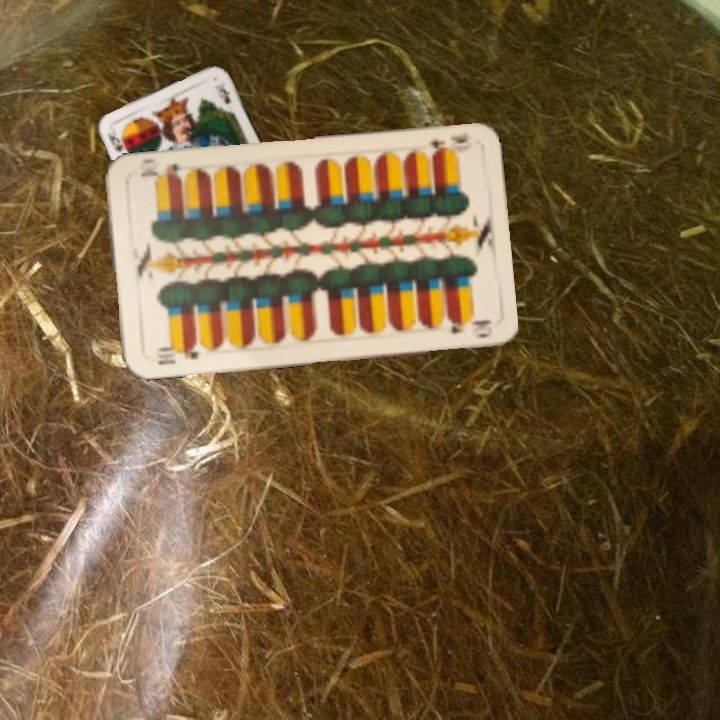E10: (426, 129, 473, 159), (154, 340, 202, 368)
SK: (103, 129, 132, 158)
